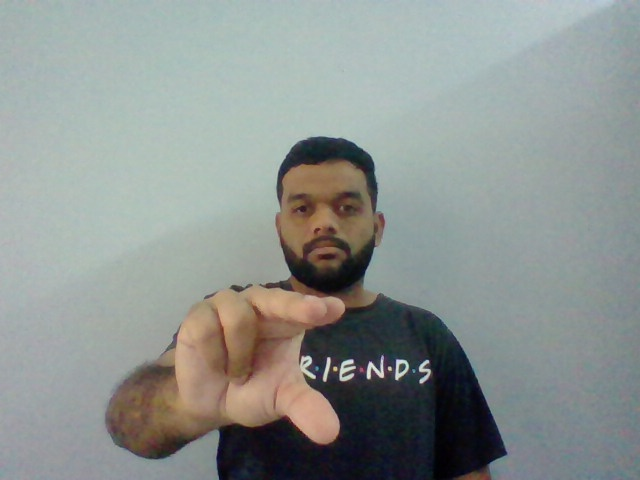No: (176, 284, 342, 446)
